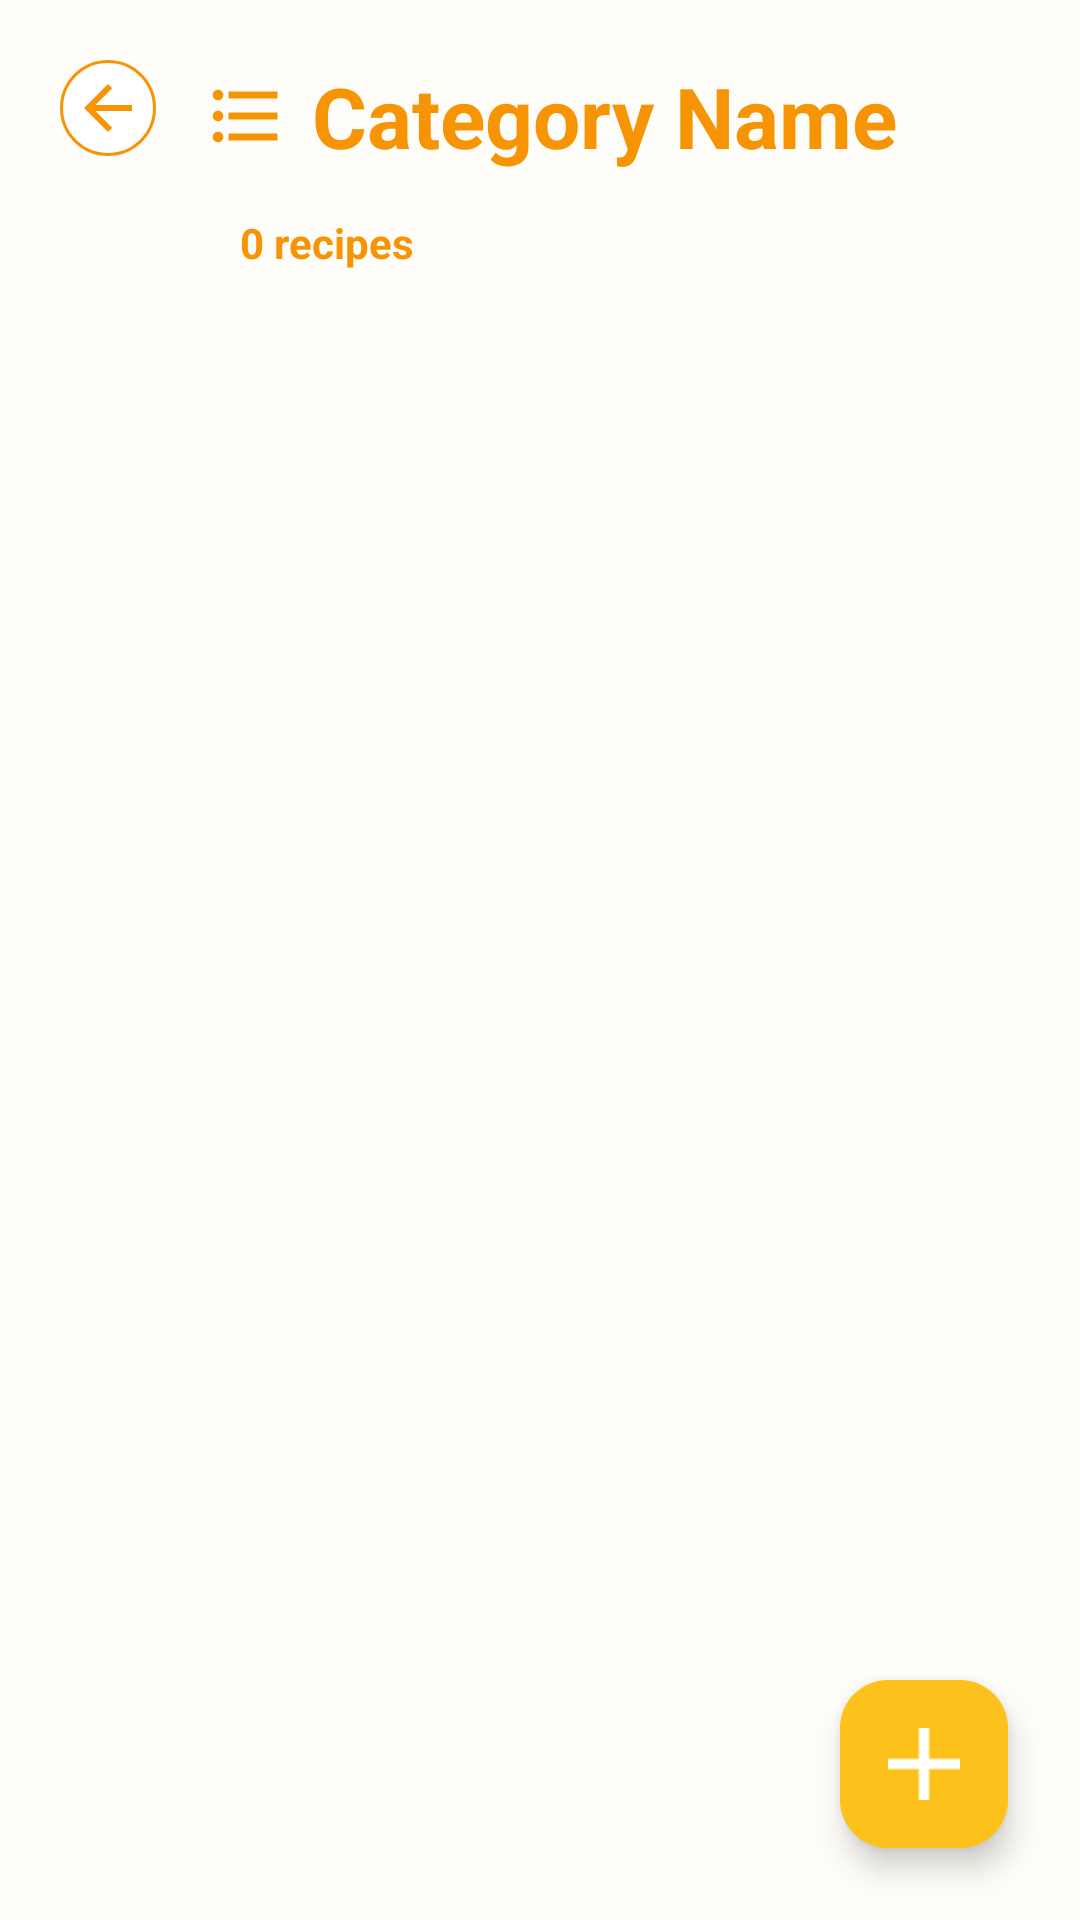

Named icons in this screenshot (1080w x 1920h) and their bounding boxes, (left=x1, top=y1, right=x2, bottom=y2):
Back Button: (left=60, top=60, right=156, bottom=156)
Create Recipe: (left=840, top=1680, right=1008, bottom=1848)
